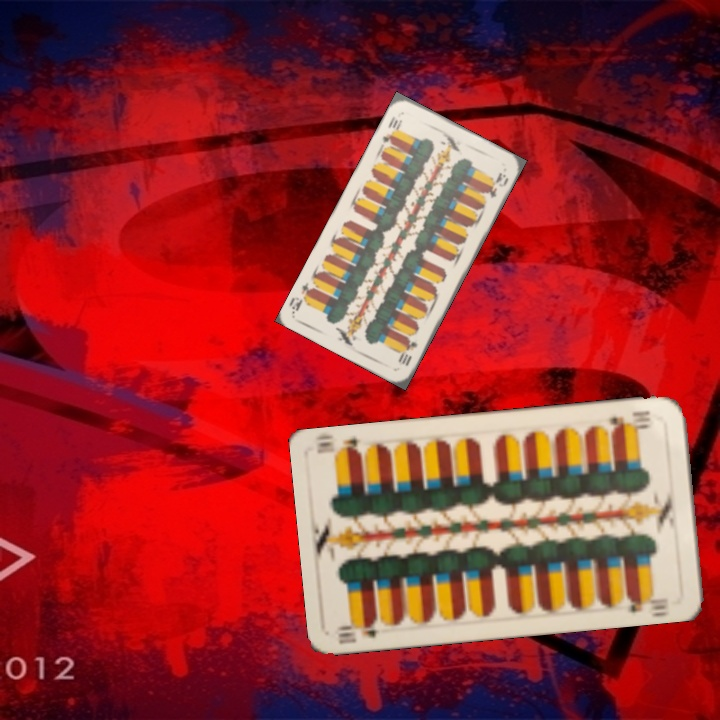E10: (334, 616, 380, 646), (605, 406, 653, 433), (394, 330, 420, 368), (379, 112, 405, 146)
